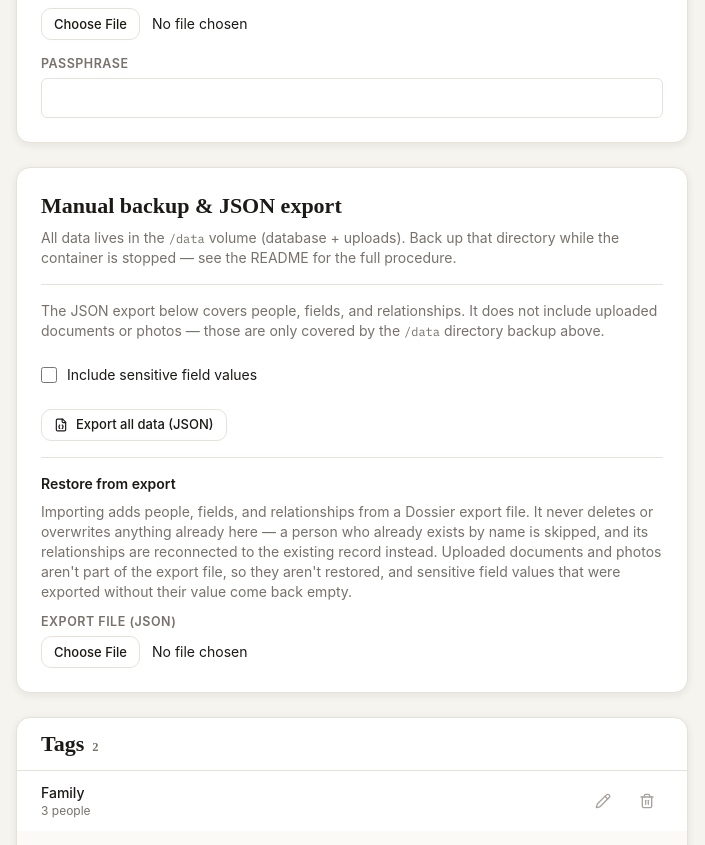
Scenario: SettingsPage — tags admin › surfaces a 409 rename collision message inline instead of failing silently
(page scrolled)
Expected: the text "Family" is shown, [41,784,84,801]
Click the button named "Rename Family" at {"x": 603, "y": 801}, box [587,785,619,817]
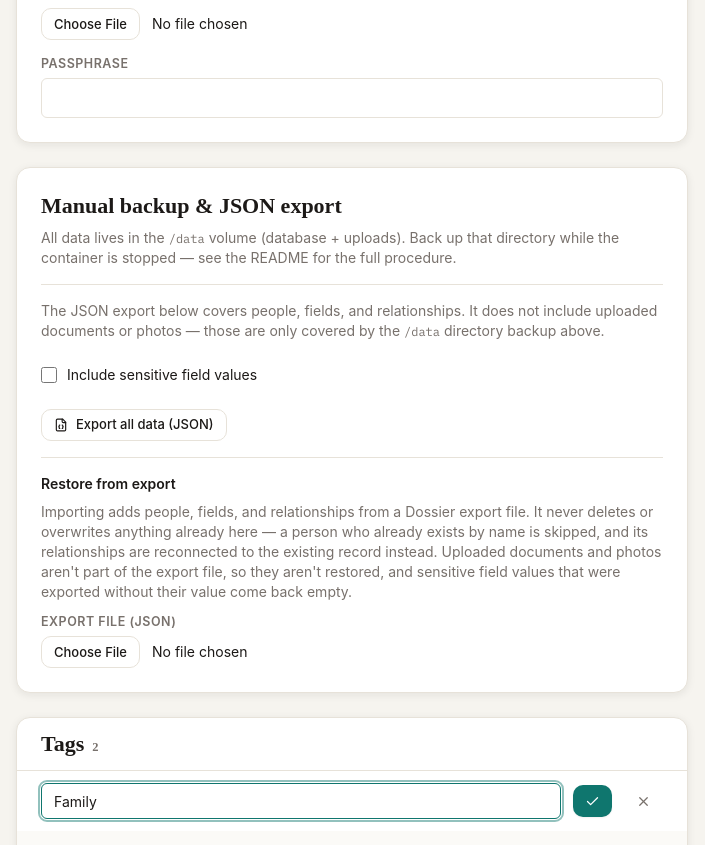
Replace the text in the field named "Tag name" with "Work" at {"x": 301, "y": 801}, box [41,783,561,819]
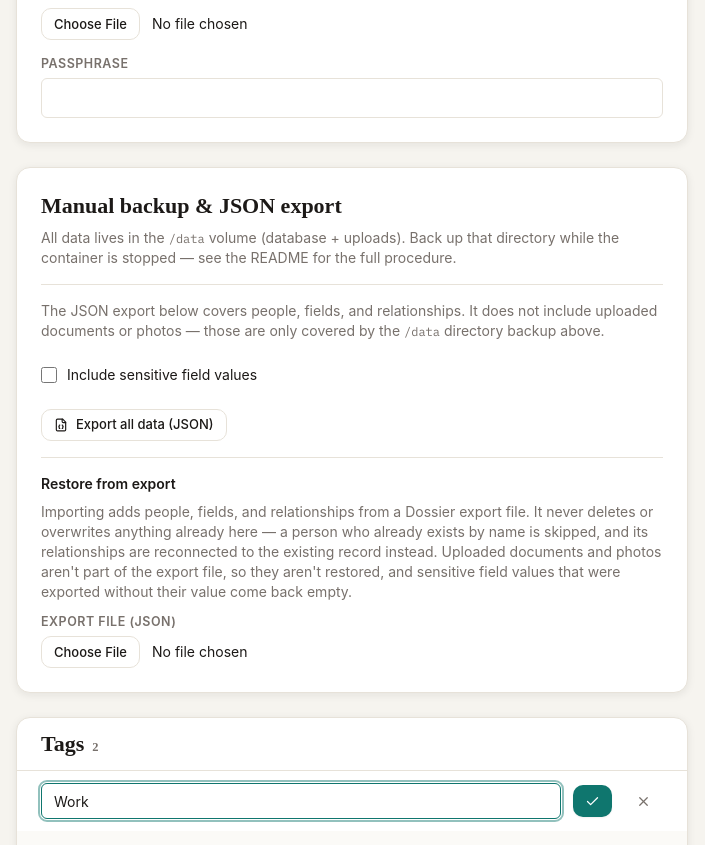
Click the button named "Save tag name" at {"x": 592, "y": 801}, box [573,785,612,817]
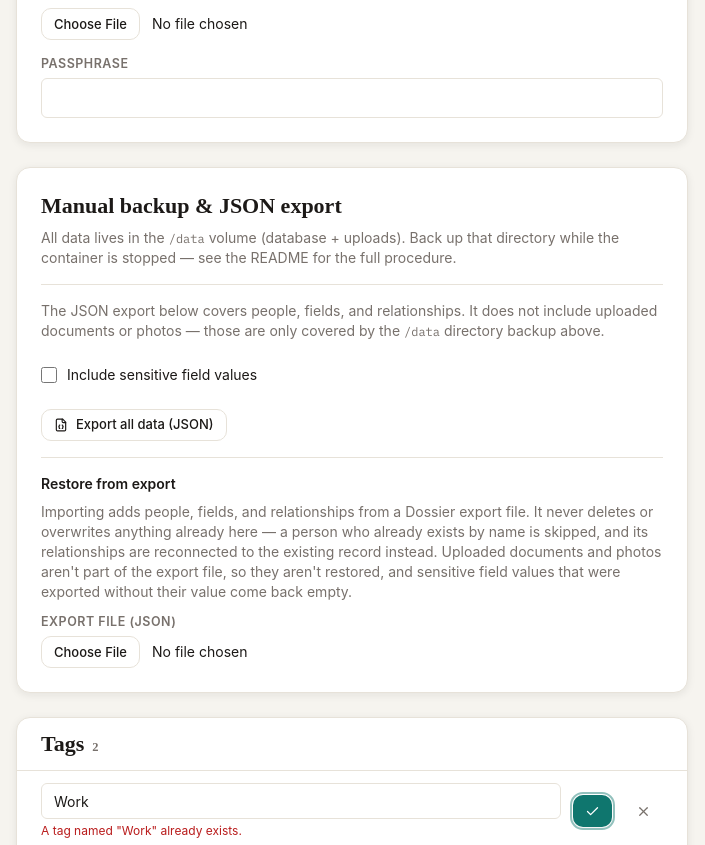
Expected: the message reads "A tag named \"Work\" already exists.", [41,823,242,838]
